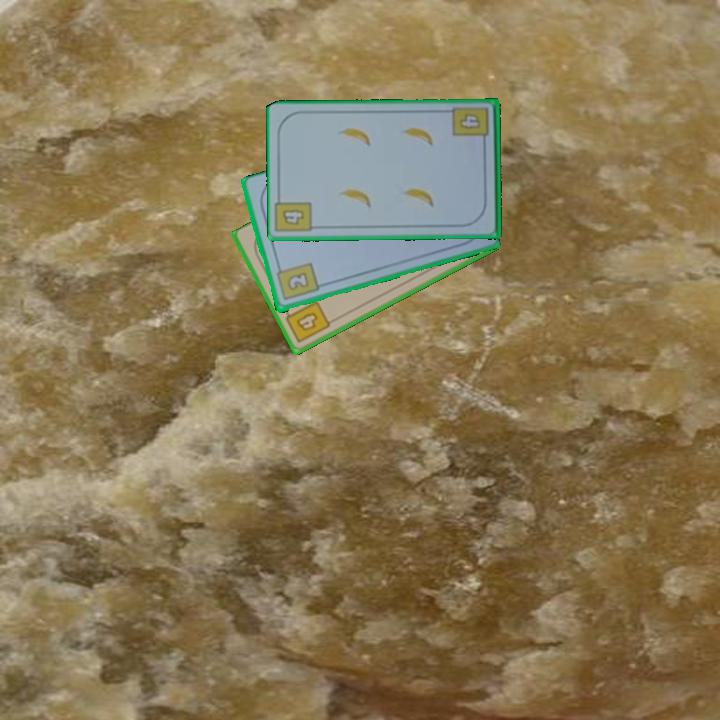2b: (272, 259, 321, 304)
4b: (281, 297, 333, 346), (450, 104, 492, 148), (279, 206, 306, 228)
